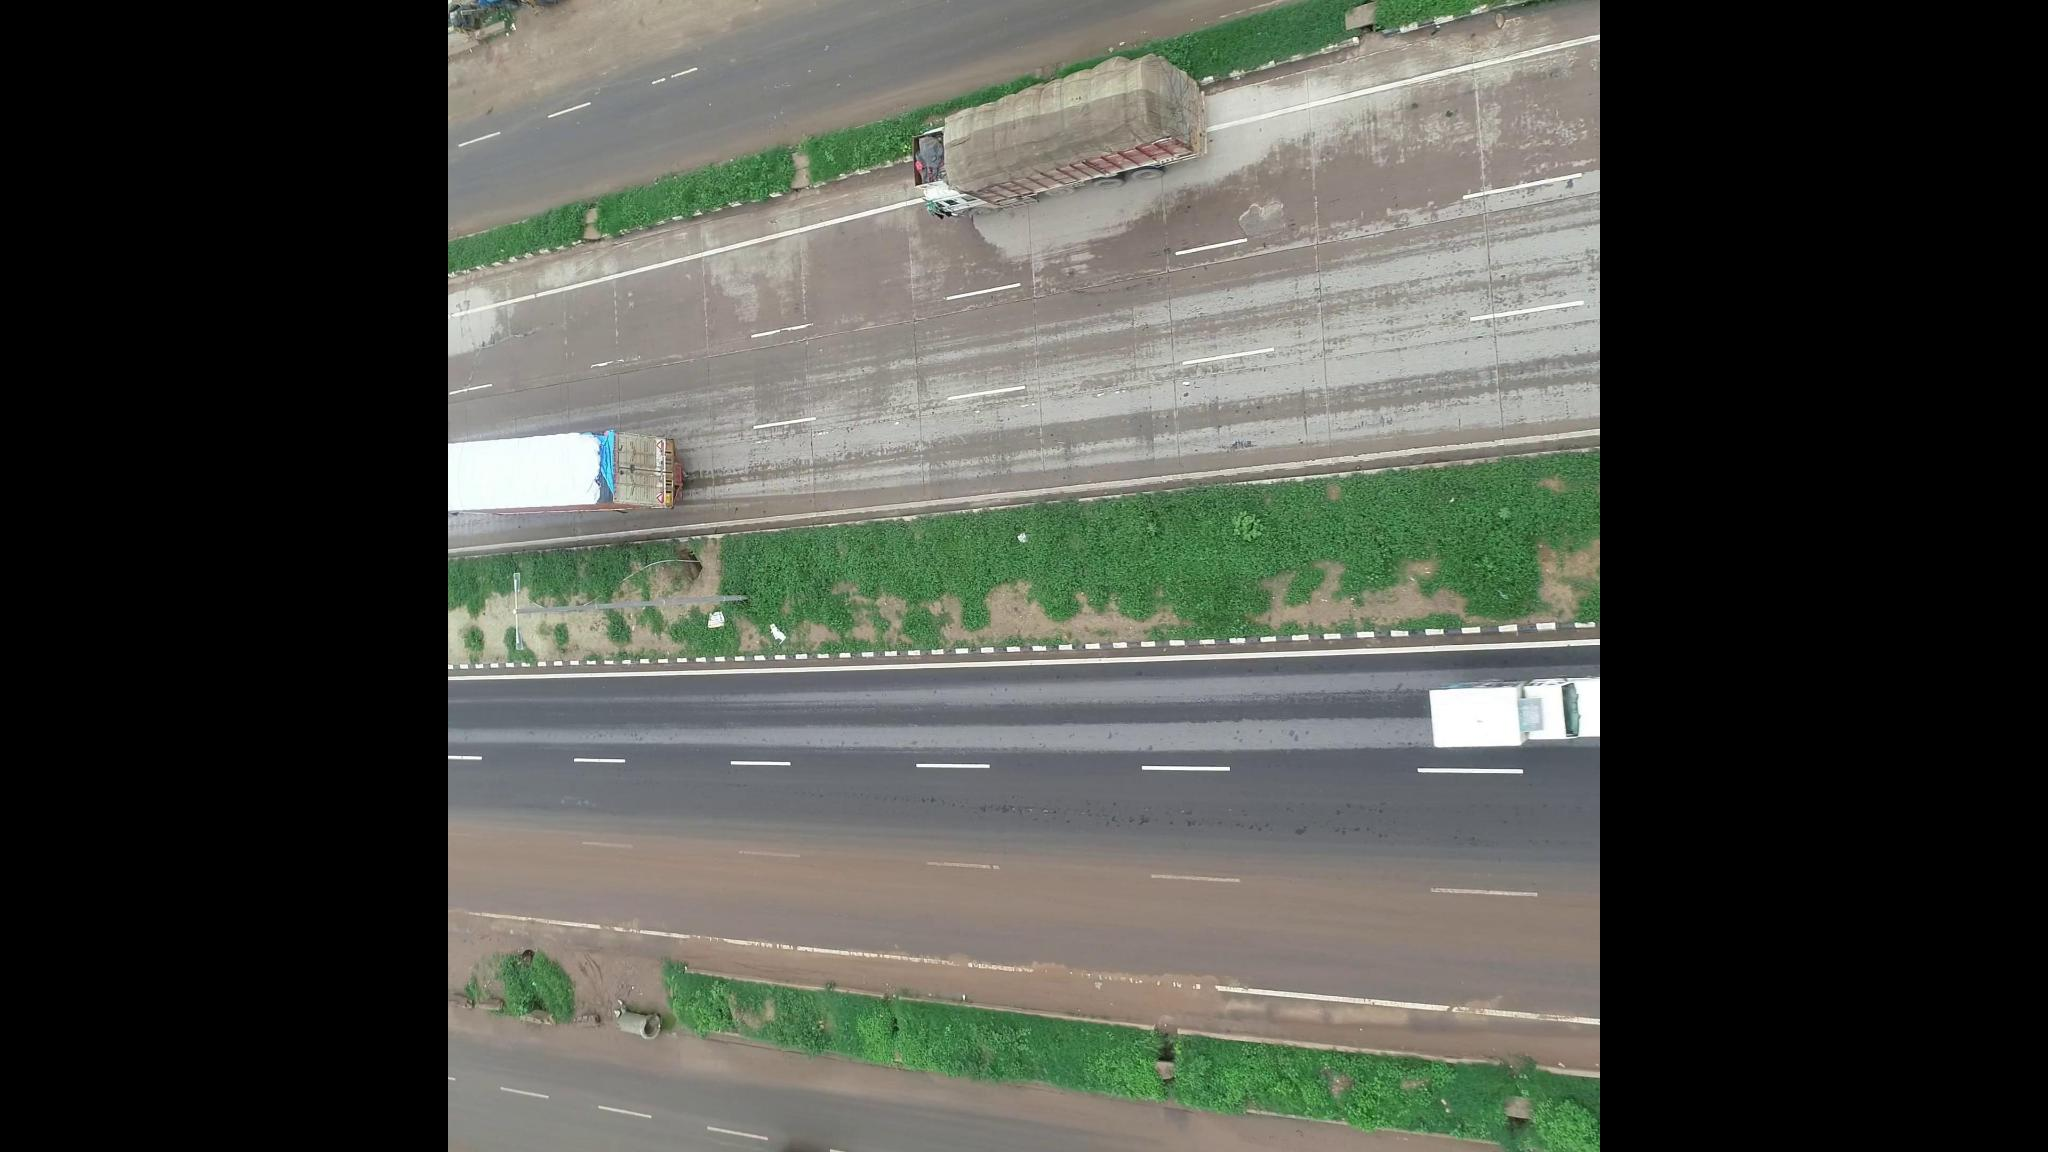Muddy_road: (1093, 859, 1594, 1027), (720, 845, 1087, 1009), (466, 824, 722, 933)
